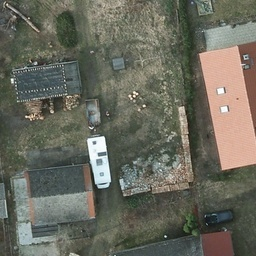car: (204, 209, 234, 226)
